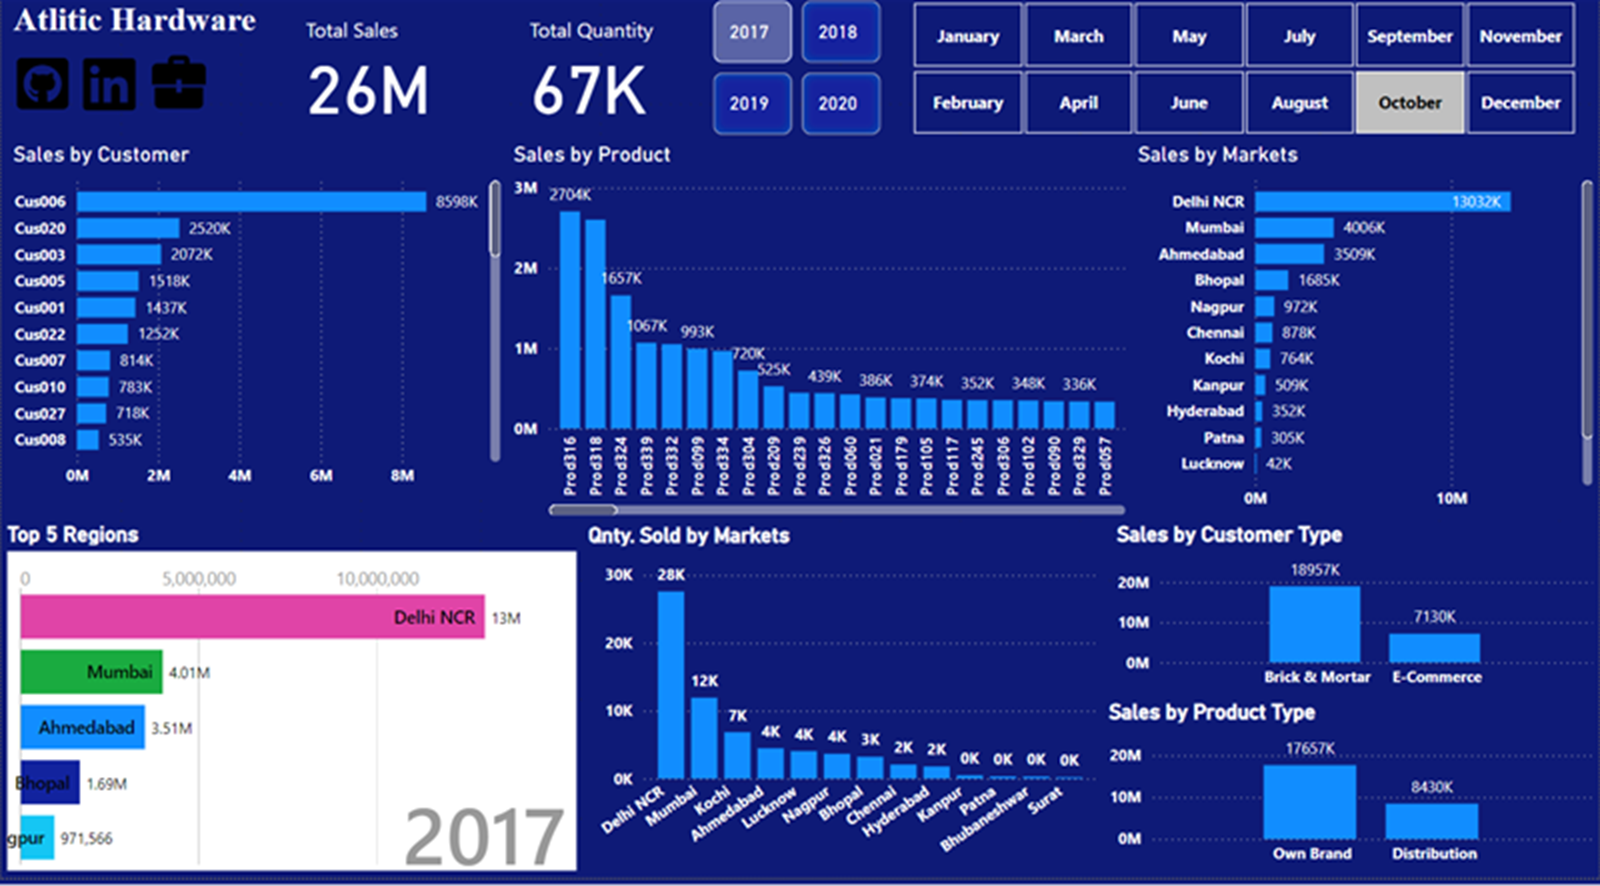

The dashboard page shown, as its layout file describes it:
{"tool":"powerbi","page":{"name":"Page 1","canvas":[1280,720],"ordinal":0},"visuals":[{"type":"cardVisual","fields":{"Data":["Sum(Table1.sales_amount)"]},"box":[226.8,7.8,178.5,119],"z":0},{"type":"cardVisual","title":"Total Sales","fields":{"Data":["Sum(Table1.sales_qty)"]},"box":[406.3,7.8,159.6,119],"z":1000},{"type":"advancedSlicerVisual","fields":{"Values":["Table1.order_date.Variation.Date Hierarchy.Year"]},"box":[565.8,7.8,144.9,119],"z":2000},{"type":"barChart","title":"Sales by Customer","fields":{"Category":["Table1.customer_code"],"Y":["Sum(Table1.sales_amount)"]},"box":[5.2,126.8,400.2,287.2],"z":3000},{"type":"barChart","title":"Sales by Markets","fields":{"Category":["Table1.markets_name"],"Y":["Sum(Table1.sales_amount)"]},"box":[905.7,126.8,374.3,306.2],"z":4000},{"type":"columnChart","title":"Qnty. Sold by Markets","fields":{"Y":["Sum(Table1.sales_qty)"],"Category":["Table1.markets_name"]},"box":[465.6,433.5,416.6,286.5],"z":5000},{"type":"slicer","fields":{"Values":["Table1.order_date.Variation.Date Hierarchy.Month"]},"box":[710.7,7.8,569.3,119],"z":6000},{"type":"columnChart","title":"Sales by Product","fields":{"Category":["Table1.product_code"],"Y":["Sum(Table1.sales_amount)"]},"box":[405.6,126.4,499.9,306.4],"z":7000},{"type":"columnChart","title":"Sales by Product Type","fields":{"Category":["Table1.product_type"],"Y":["Sum(Table1.sales_amount)"]},"box":[882.3,576.3,398,142.8],"z":8000},{"type":"columnChart","title":"Sales by Customer Type","fields":{"Category":["Table1.customer_type"],"Y":["Sum(Table1.sales_amount)"]},"box":[889,432.7,391.3,143.7],"z":9000},{"type":"textbox","box":[4.8,8,221.6,46.4],"z":10000},{"type":"wishyoulizationbarchartrace","title":"Top 5 Regions","fields":{"name":["Table1.markets_name"],"value":["Sum(Table1.sales_amount)"],"year":["Table1.order_date.Variation.Date Hierarchy.Year"]},"box":[0,432.7,465.6,286.5],"z":11000},{"type":"image","box":[5.1,51.5,56.6,56.6],"z":12000},{"type":"image","box":[56.6,54.1,59.2,52.4],"z":13000},{"type":"image","box":[115.8,52.4,53.2,53.2],"z":14000}]}

Visuals, with their boxes in screenshot pixels (x1, y1, x2, y2), scaled from the page's 1280x720 canvas onto the 1600x886 screenshot:
cardVisual - Sum(Table1.sales_amount): <region>284, 10, 507, 156</region>
"Total Sales" cardVisual: <region>508, 10, 707, 156</region>
advancedSlicerVisual - Table1.order_date.Variation.Date Hierarchy.Year: <region>707, 10, 888, 156</region>
"Sales by Customer" barChart: <region>6, 156, 507, 509</region>
"Sales by Markets" barChart: <region>1132, 156, 1599, 533</region>
"Qnty. Sold by Markets" columnChart: <region>582, 533, 1103, 885</region>
slicer - Table1.order_date.Variation.Date Hierarchy.Month: <region>888, 10, 1599, 156</region>
"Sales by Product" columnChart: <region>507, 156, 1132, 533</region>
"Sales by Product Type" columnChart: <region>1103, 709, 1599, 885</region>
"Sales by Customer Type" columnChart: <region>1111, 532, 1599, 709</region>
textbox: <region>6, 10, 283, 67</region>
"Top 5 Regions" wishyoulizationbarchartrace: <region>0, 532, 582, 885</region>
image: <region>6, 63, 77, 133</region>
image: <region>71, 67, 145, 131</region>
image: <region>145, 64, 211, 130</region>
